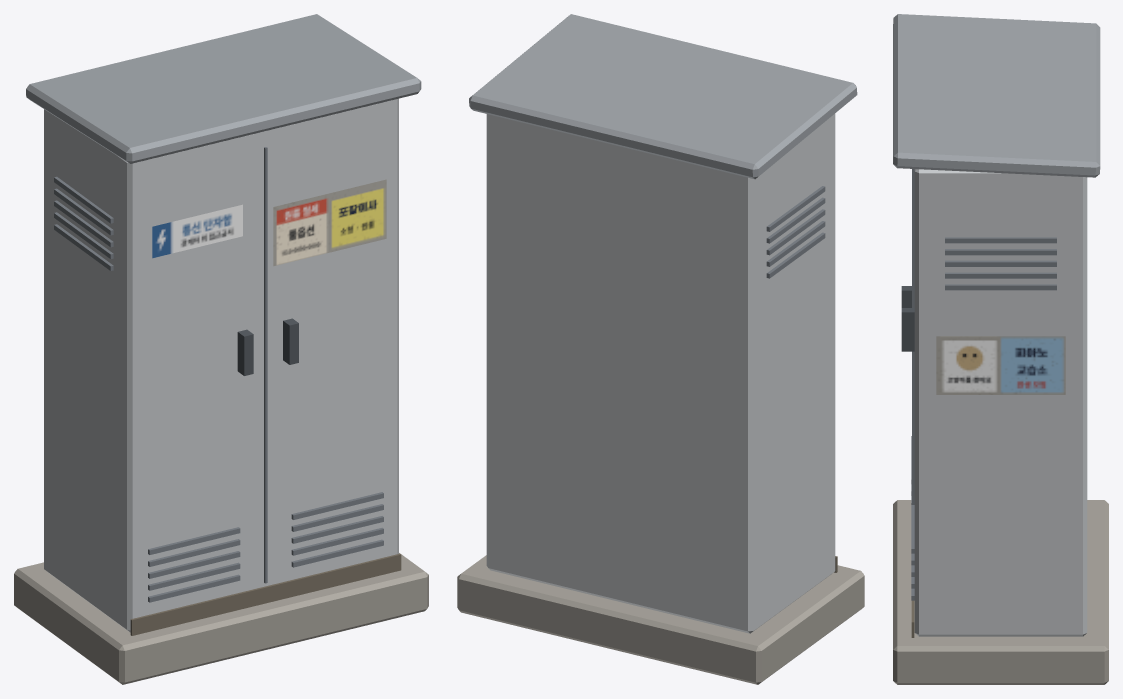
The model's file is SC_Util_Telecom_Cabinet.gltf.
3 renders of one model, left to right at view 1: azimuth 30°, elevation 25°; view 2: azimuth 150°, elevation 25°; view 3: azimuth 270°, elevation 25°, orthographic.
Parts seen in each view (by area): view 1: SC_Util_Telecom_Cabinet; view 2: SC_Util_Telecom_Cabinet; view 3: SC_Util_Telecom_Cabinet.
Part boxes in pixels (box(x1,y1,x2,y2)): SC_Util_Telecom_Cabinet: box(14, 14, 428, 684); SC_Util_Telecom_Cabinet: box(457, 14, 864, 684); SC_Util_Telecom_Cabinet: box(893, 14, 1108, 684).
Bounding box in the file's own units: 0.82 × 1.35 × 0.5002.
2 materials, 2 textured.
